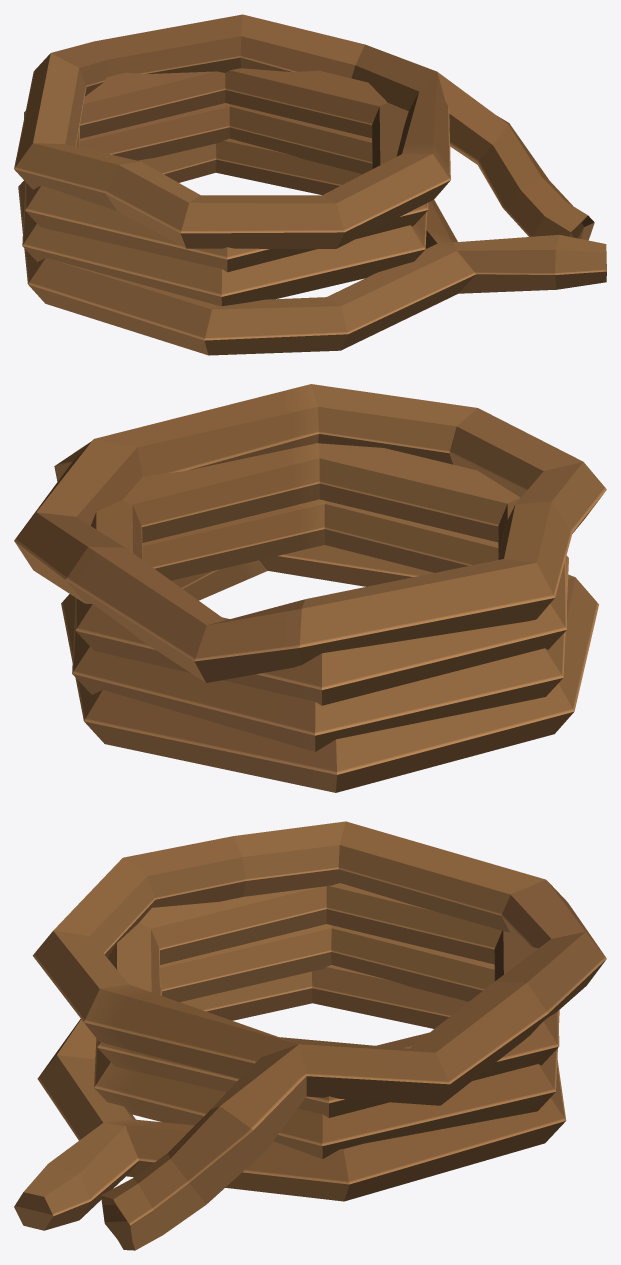
Rendered from Rope_01.glb.
3 renders of one model, top to bottom at view 1: azimuth 30°, elevation 25°; view 2: azimuth 150°, elevation 25°; view 3: azimuth 270°, elevation 25°, orthographic. The views are drawn at different scales.
Visible parts, largest first — view 1: Rope_01; view 2: Rope_01; view 3: Rope_01.
Boxes of the visible parts, x1,y1,x2,y2 form: Rope_01: (14,14,606,355); Rope_01: (14,384,606,792); Rope_01: (14,821,606,1250).
Size of the model in its own units: 0.5992 by 0.1942 by 0.553.
Materials: 1 (1 with a texture image).
